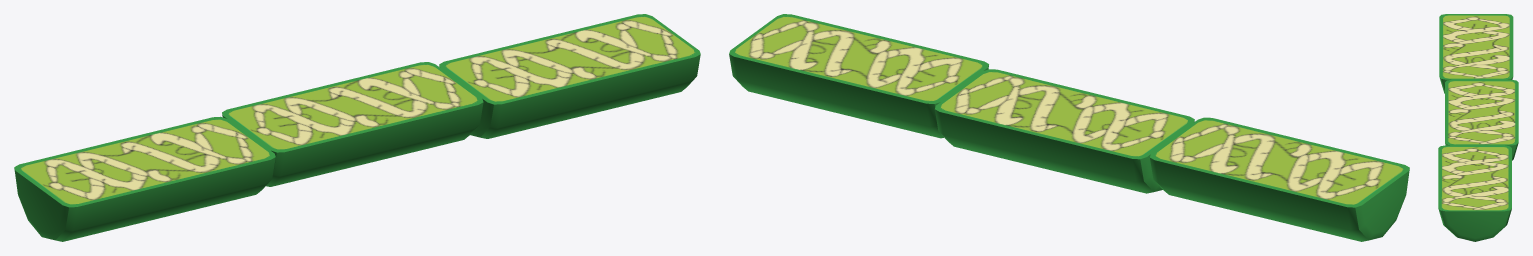
The model's file is fragmentaton.fbx.
The picture shows the model from 3 angles, left to right: view 1: azimuth 30°, elevation 25°; view 2: azimuth 150°, elevation 25°; view 3: azimuth 270°, elevation 25°; orthographic projection. The views are drawn at different scales.
Parts seen in each view (by area): view 1: fragmentaton; view 2: fragmentaton; view 3: fragmentaton.
Boxes of the visible parts, <box> form: fragmentaton: <box>14,14,700,241</box>; fragmentaton: <box>729,14,1409,241</box>; fragmentaton: <box>1438,14,1518,241</box>.
Bounding box in the file's own units: 150 × 11.86 × 25.83.
1 material, 1 textured.
